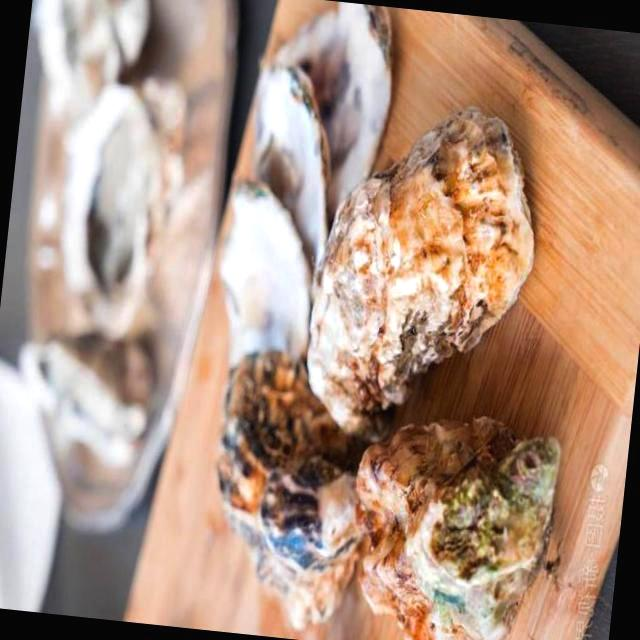Oyster-Closed: (307, 102, 543, 438), (353, 412, 565, 640), (216, 346, 374, 631)
Oyster-Open: (58, 83, 194, 337), (272, 1, 394, 248), (11, 318, 171, 474), (245, 63, 326, 289), (217, 179, 310, 364)
